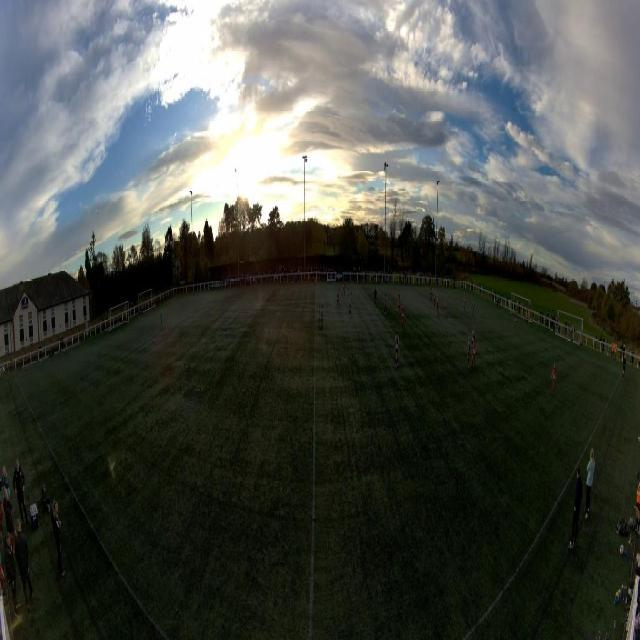ball: (522, 318, 524, 322)
player: (394, 329, 400, 370), (319, 305, 325, 333), (551, 363, 556, 395), (471, 338, 476, 369), (466, 337, 471, 367), (471, 325, 476, 347), (318, 303, 322, 330), (401, 303, 405, 329), (397, 293, 401, 317), (384, 293, 388, 315), (348, 293, 352, 315), (336, 286, 340, 305), (373, 287, 377, 306), (436, 295, 439, 319), (444, 298, 447, 318), (514, 312, 517, 330), (342, 280, 345, 296), (429, 285, 432, 301), (434, 291, 436, 309), (161, 310, 163, 328), (473, 298, 475, 316), (464, 297, 466, 312), (432, 287, 434, 302), (464, 293, 466, 307)
